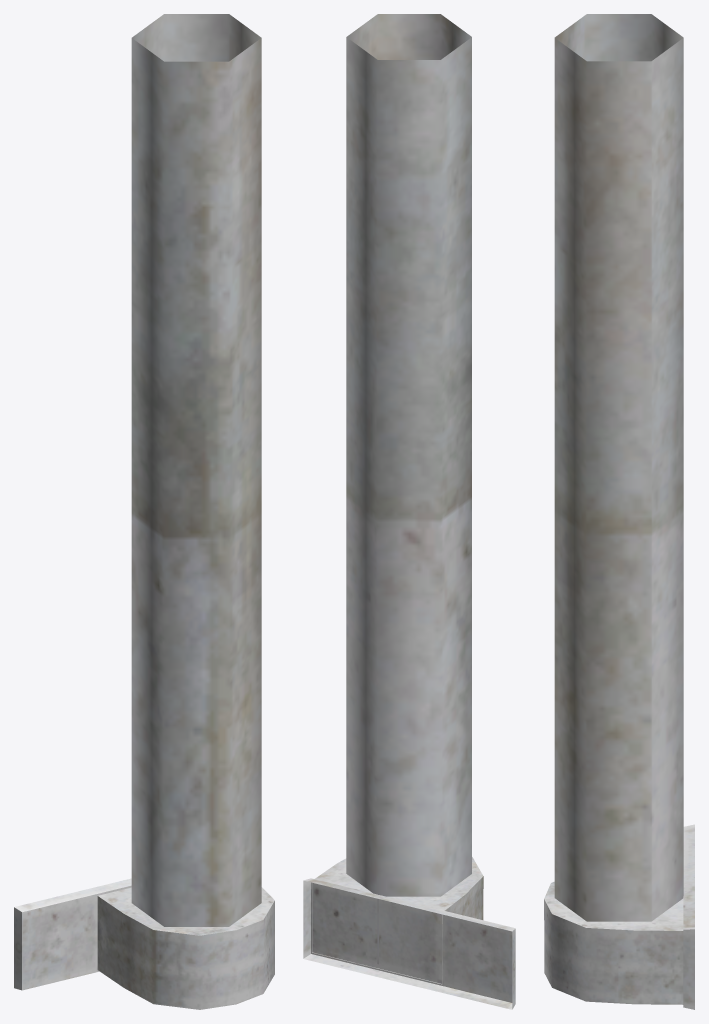
File: SM_Wires_Pipes_01oo.glb
3 views of the same model, side by side, from view 1: azimuth 30°, elevation 25°; view 2: azimuth 150°, elevation 25°; view 3: azimuth 270°, elevation 25° (orthographic). The views are drawn at different scales.
Visible parts, largest first — view 1: SM_Wires_Pipes_01oo; view 2: SM_Wires_Pipes_01oo; view 3: SM_Wires_Pipes_01oo.
Part boxes in pixels (box(x1,y1,x2,y2)): SM_Wires_Pipes_01oo: box(14, 14, 274, 1009); SM_Wires_Pipes_01oo: box(303, 14, 515, 1009); SM_Wires_Pipes_01oo: box(544, 14, 694, 1009).
Bounding box in the file's own units: 0.0605 × 0.2521 × 0.0367.
Materials: 1 (1 with a texture image).
